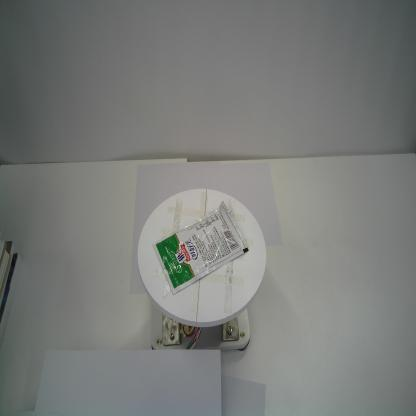Seasoner: (151, 199, 249, 296)
